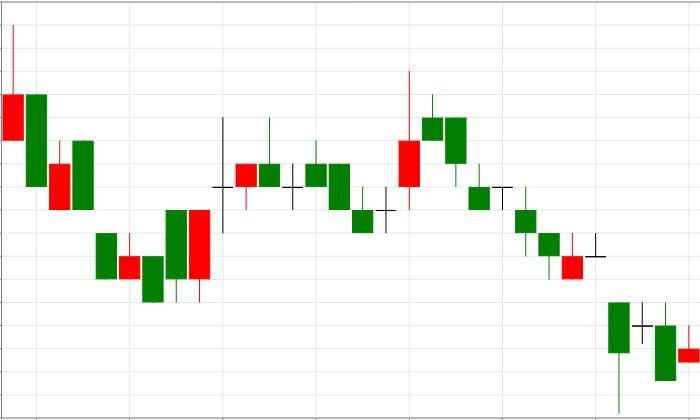bullish_engulfing_rise: (73, 141, 210, 302)
